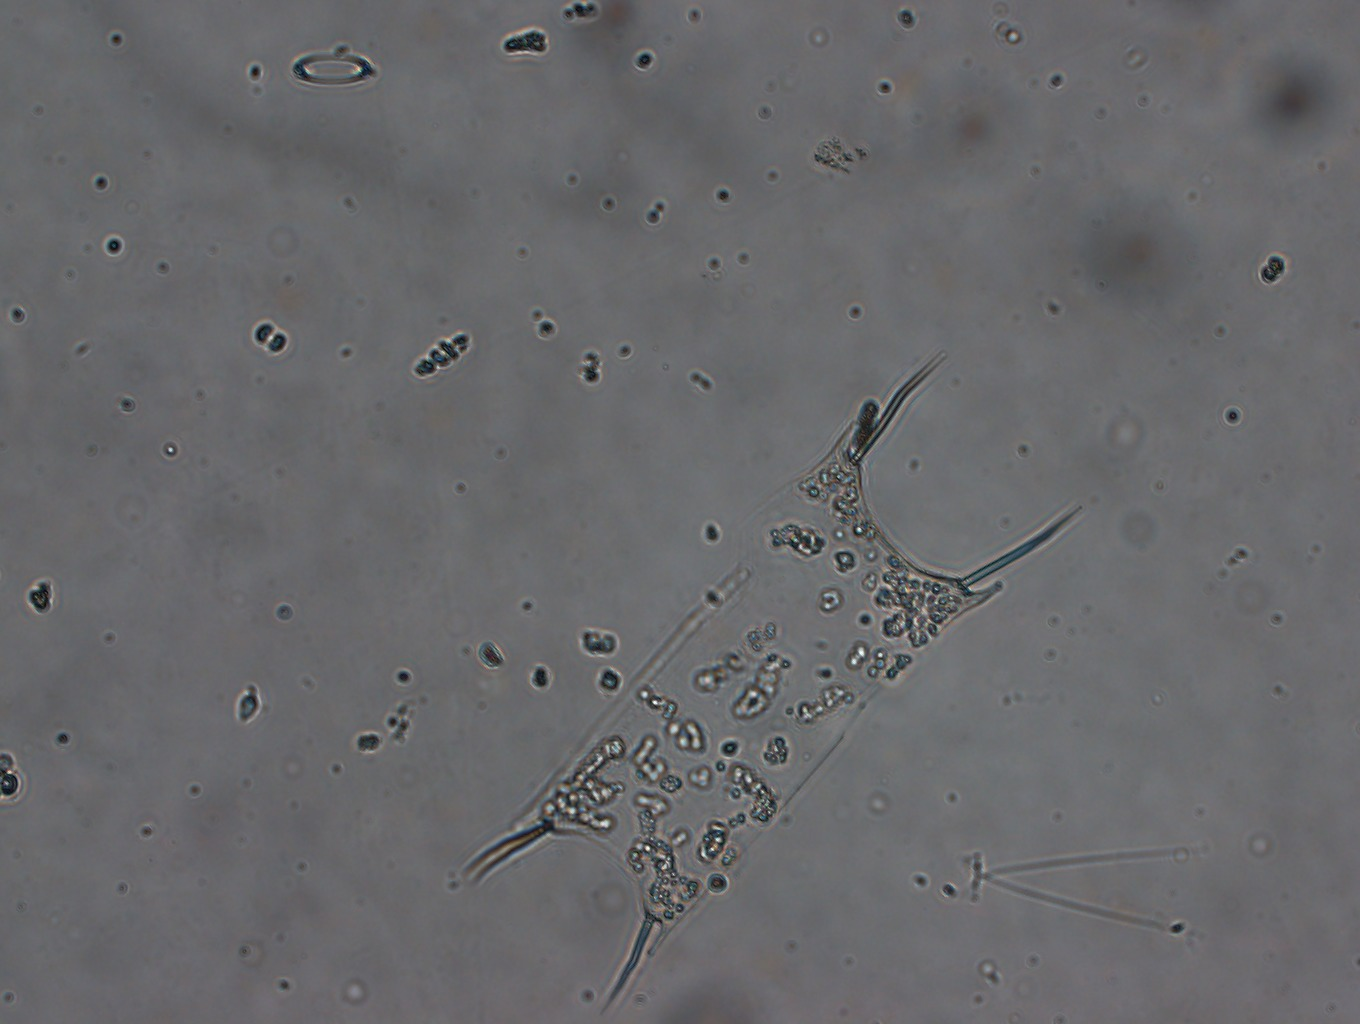biddulphia: (467, 367, 1096, 1024)
